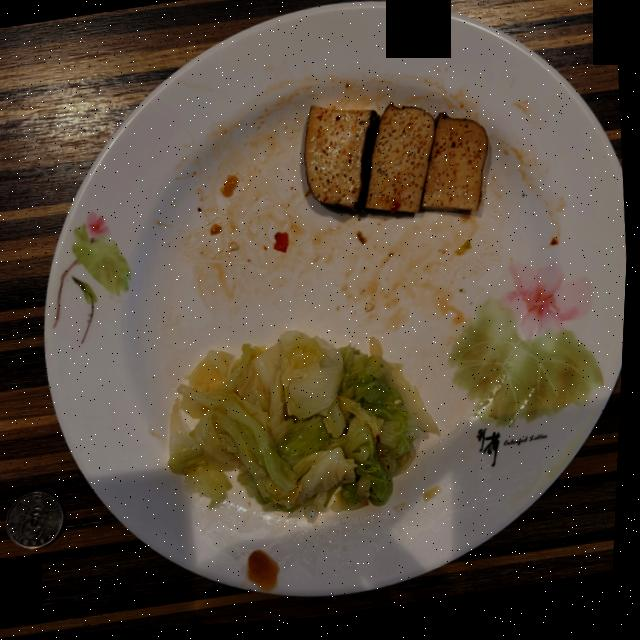cabbage: (172, 334, 422, 525)
coin: (10, 491, 70, 549)
firm tofu: (305, 108, 437, 218), (428, 123, 488, 216)
